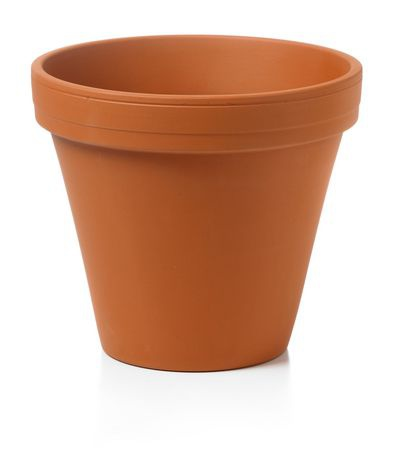flowerpot: (32, 36, 363, 372)
